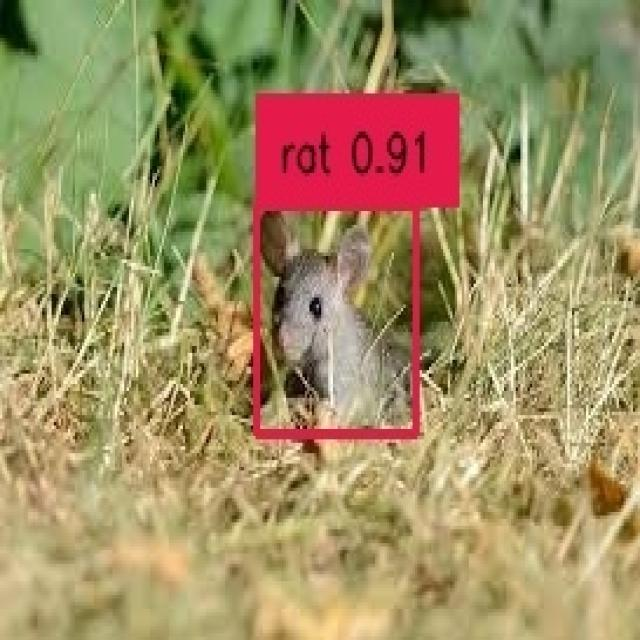rat: (253, 201, 413, 429)
